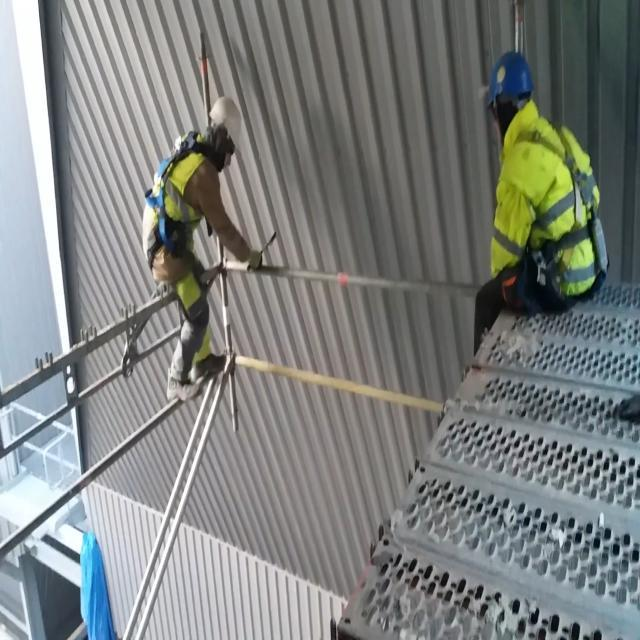belt: (510, 108, 598, 300), (138, 127, 216, 287), (68, 36, 69, 40)
